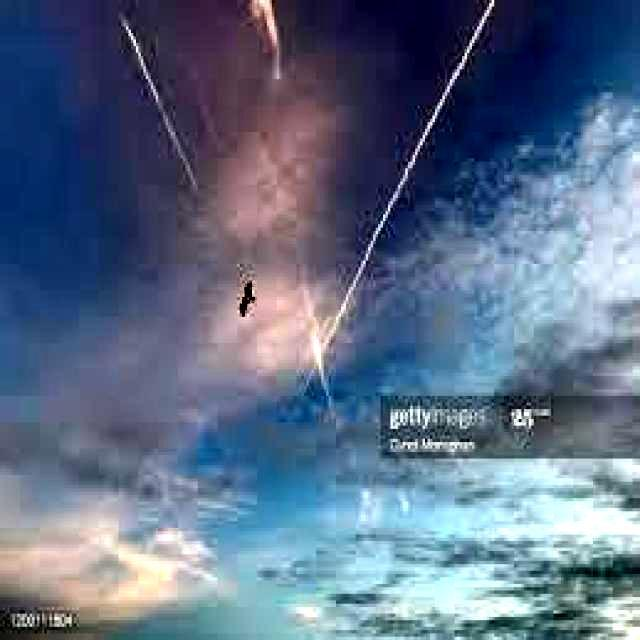bird: (238, 278, 262, 320)
